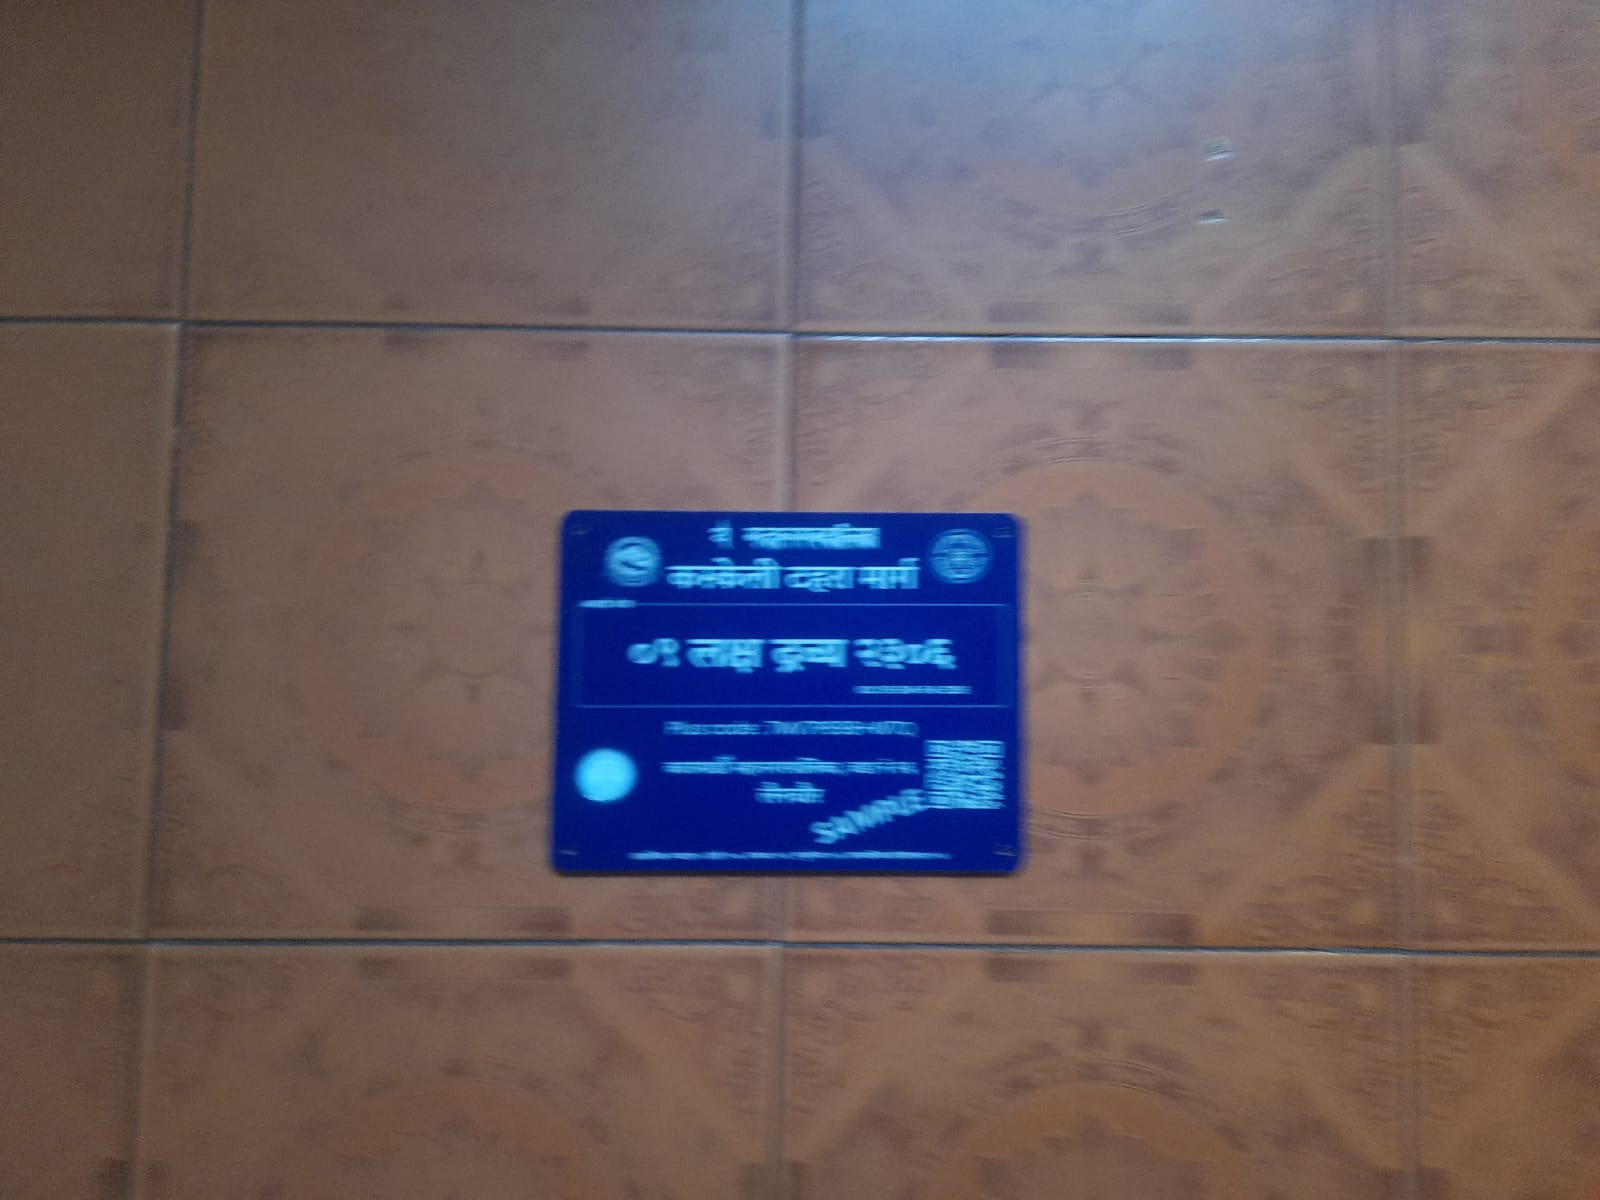Plate: (547, 504, 1033, 882)
